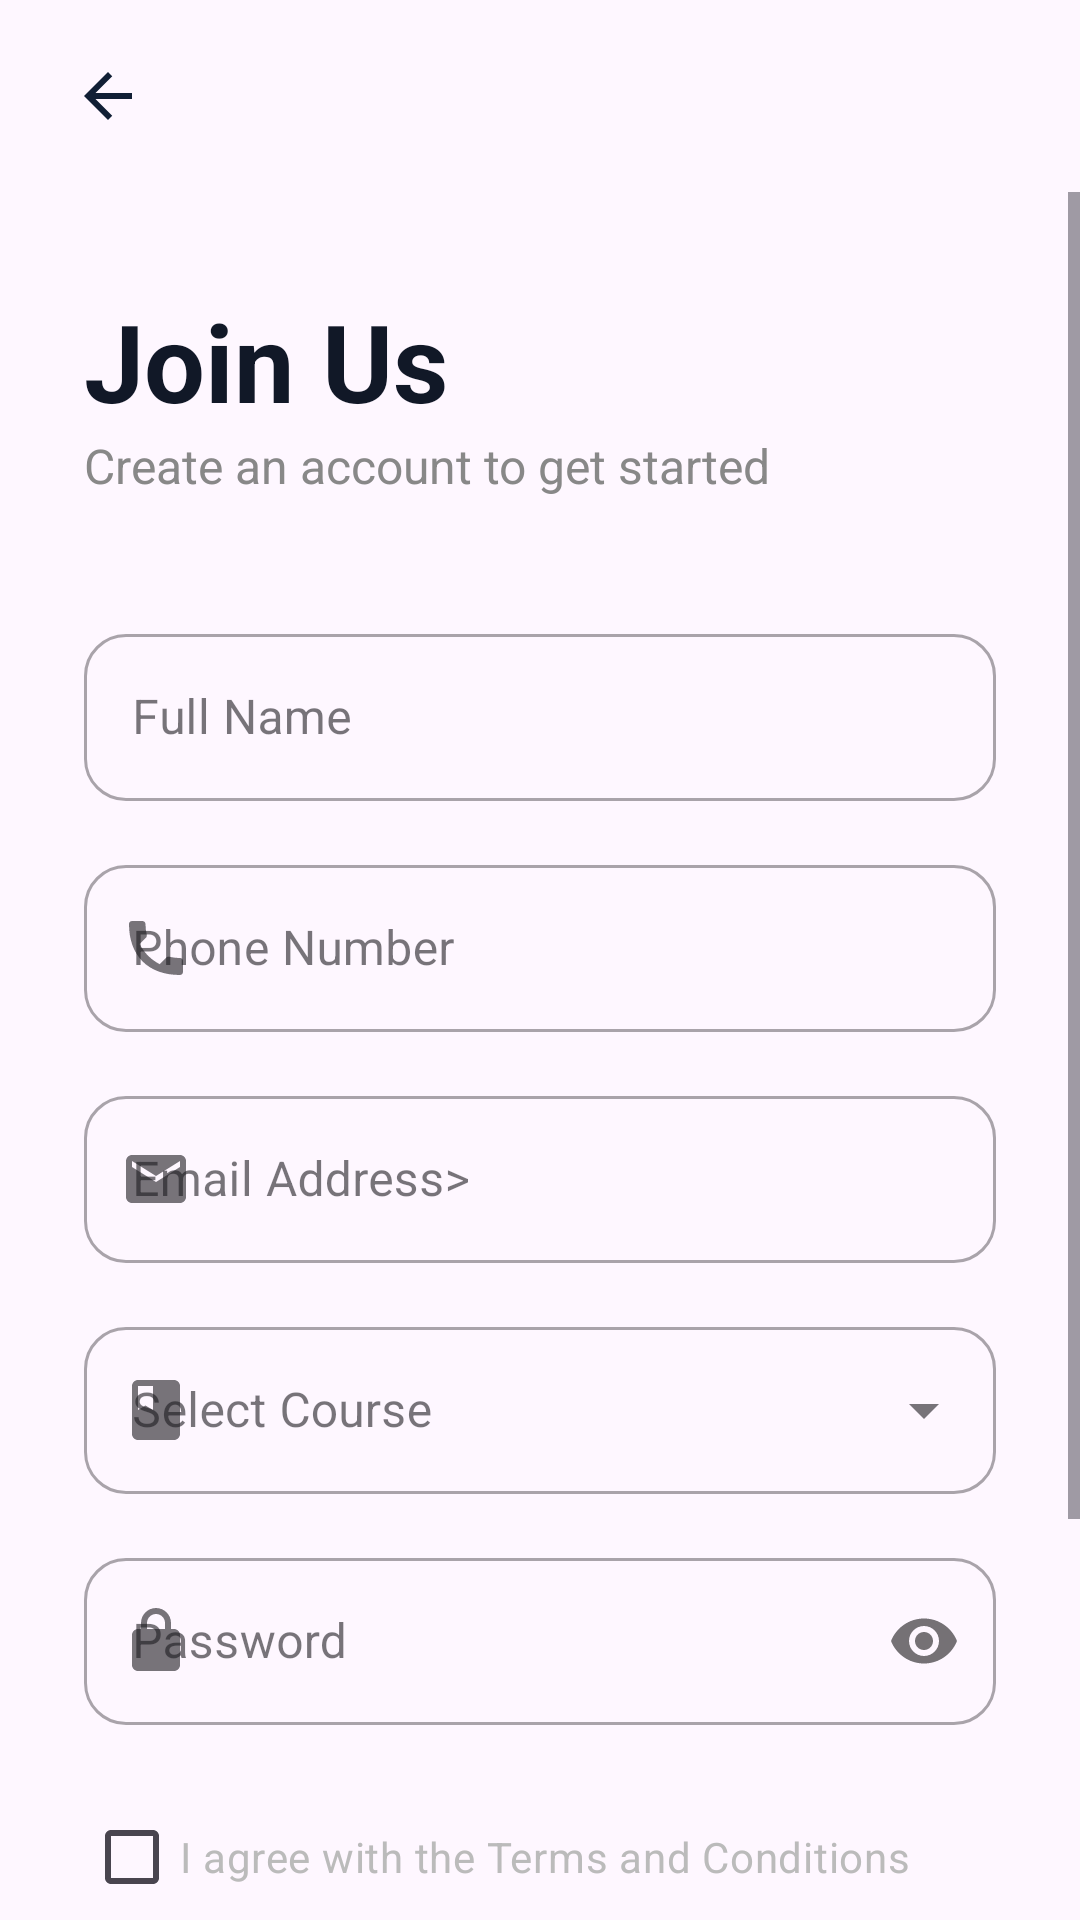

Point at icon controls on the screen. Image size 1080px x 1920px, points as (x,y).
Go Back: (108,96)
